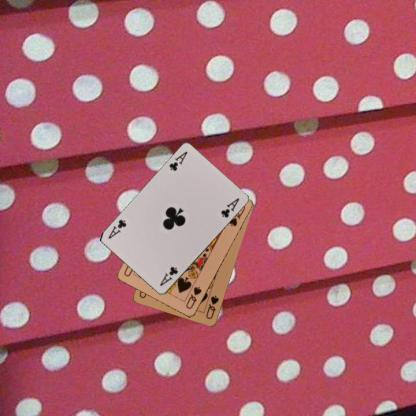Ac: (166, 149, 189, 172), (157, 264, 179, 288)
Qs: (183, 284, 203, 310), (204, 293, 220, 321)
